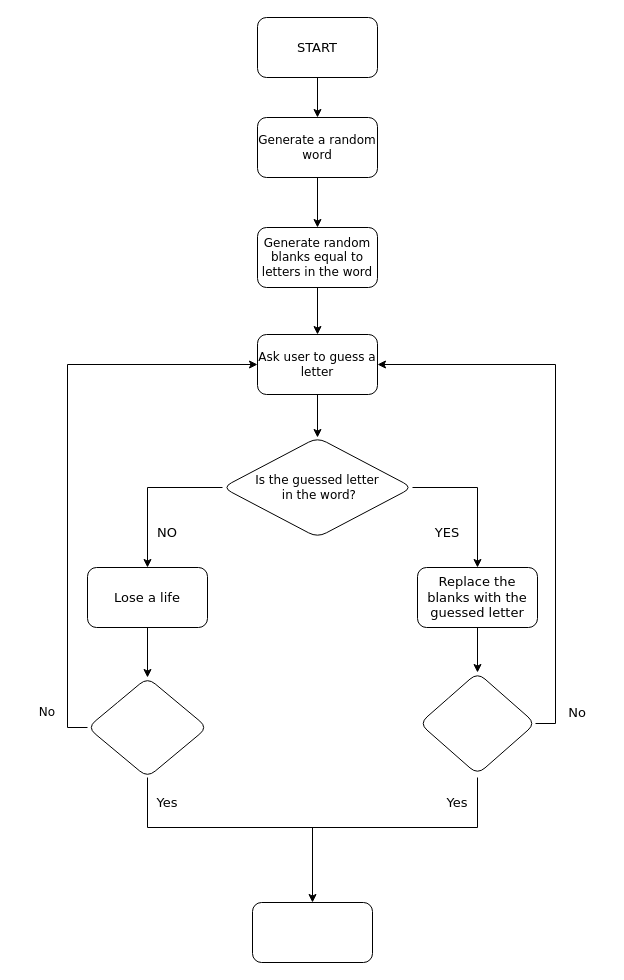
The diagram is 624 pixels wide and 980 high, and some of its shapes have lost their labels. Each missing label, with the centre of its shape:
Are all the blanks filled?: [477,723]
GAME OVER: [312,932]
Have they run out of life?: [147,727]
